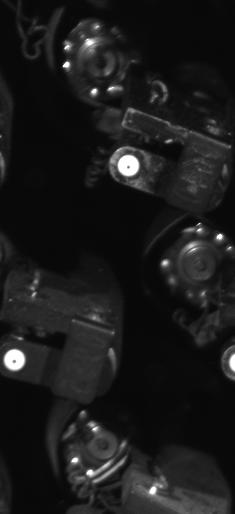fiber: (1, 345, 33, 379), (114, 151, 145, 182)
